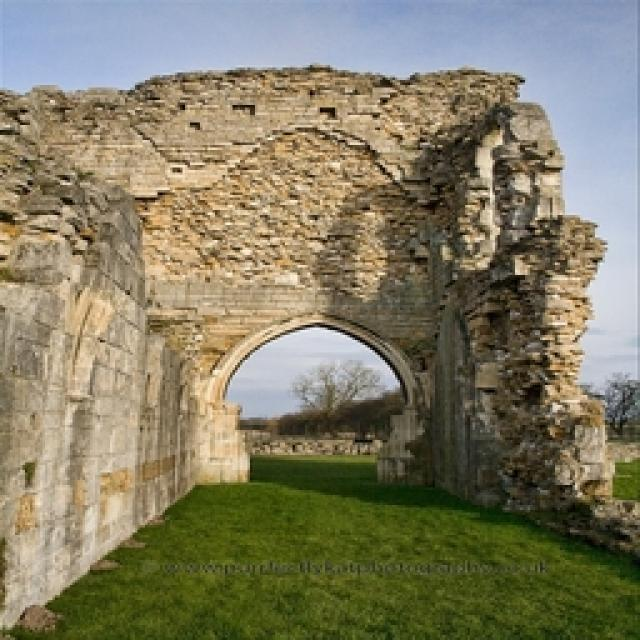Abbey: (1, 42, 616, 532)
